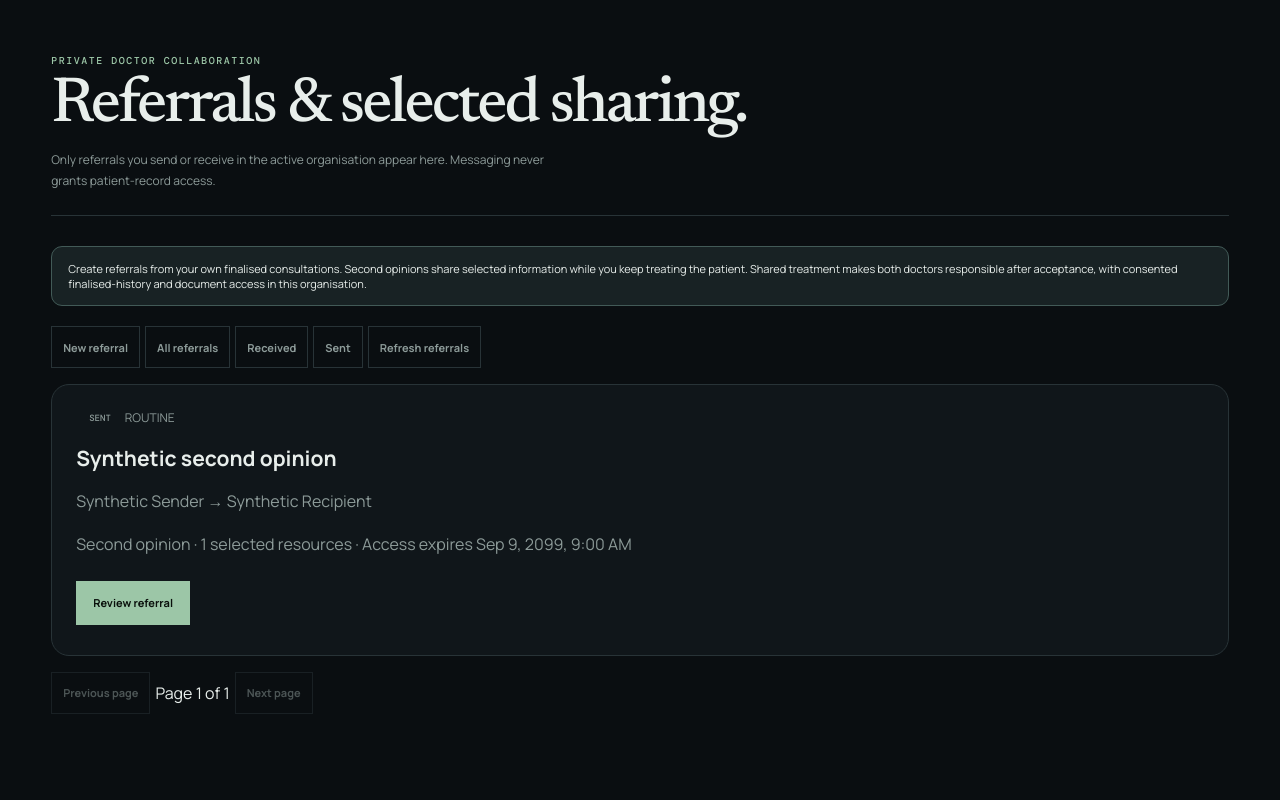
Test: uses participant-scoped direction filters and opens an authoritative detail
This screenshot has width=1280, height=800.
Step 1. Click the button "Review referral" → point(133, 602), box [76,580,190,624]
(page scrolled)
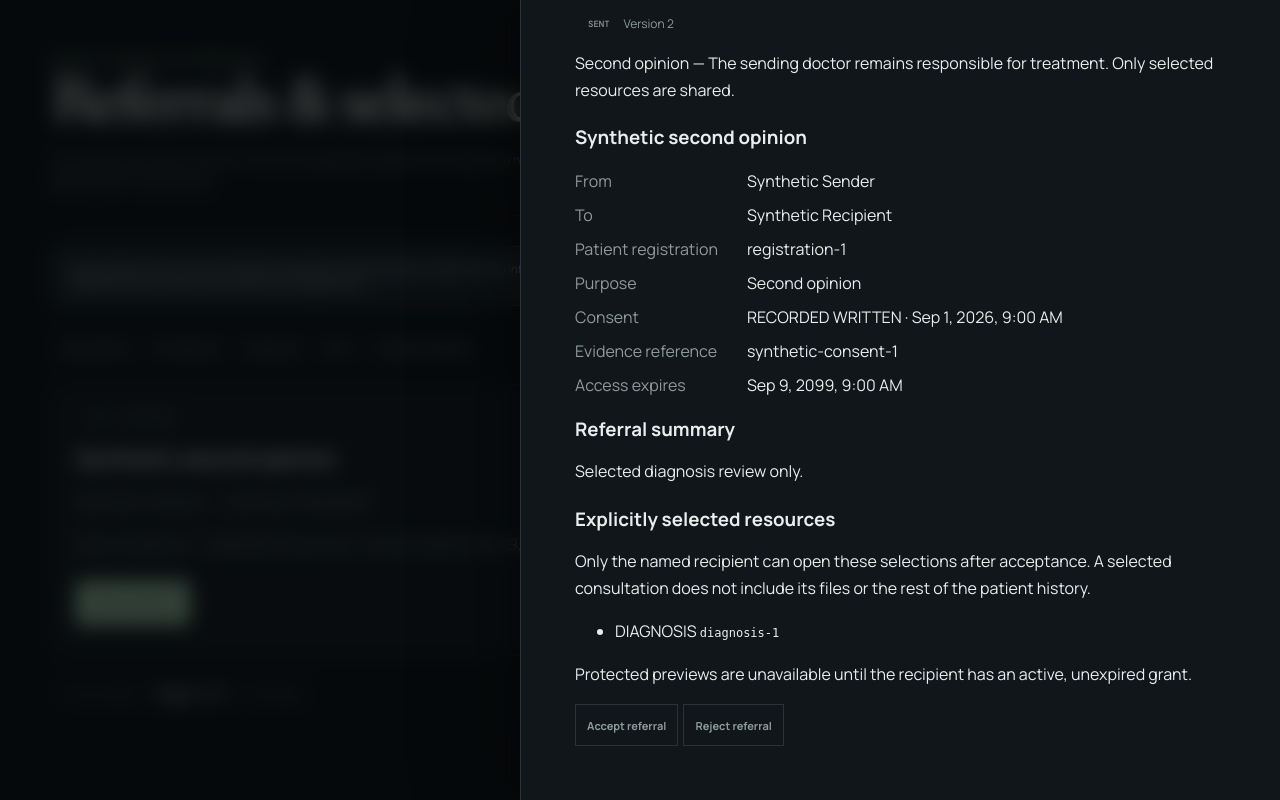
Now the text "diagnosis-1" is shown, box [700,626,779,640]
Now the button "Accept referral" is shown, box [575,704,678,746]
